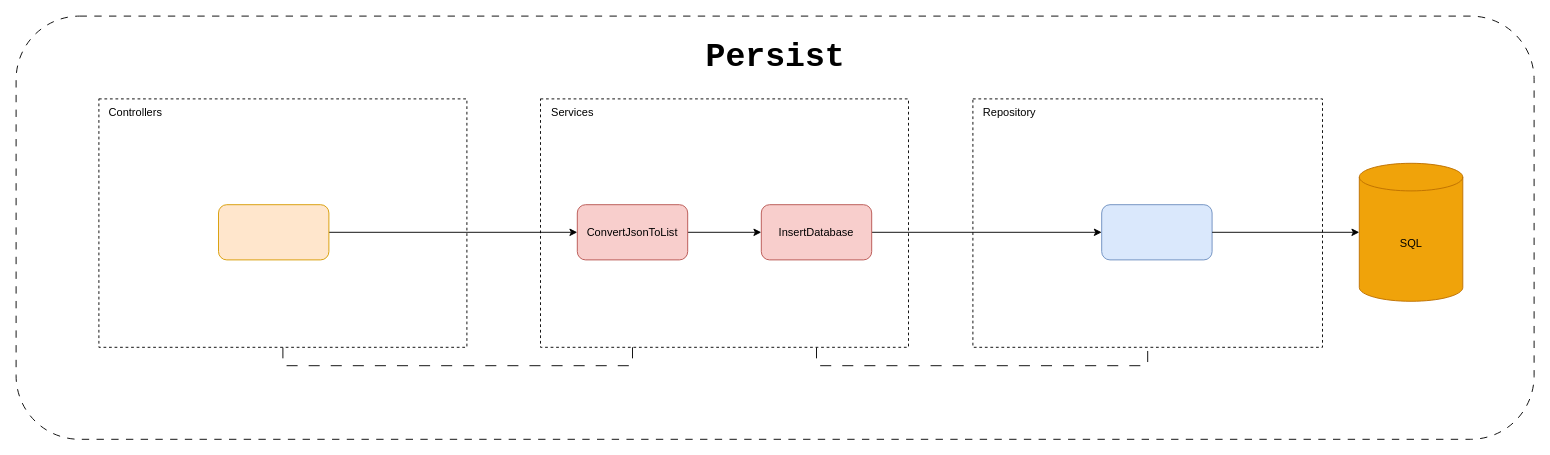
This 1550x455 diagram has some shape labels left out. Here are the shapes that lost their labels. From the top down, the box of each, then its label:
(218, 204, 329, 260): ReceiveJsonFile
(1101, 204, 1212, 260): InsertOnSQL
